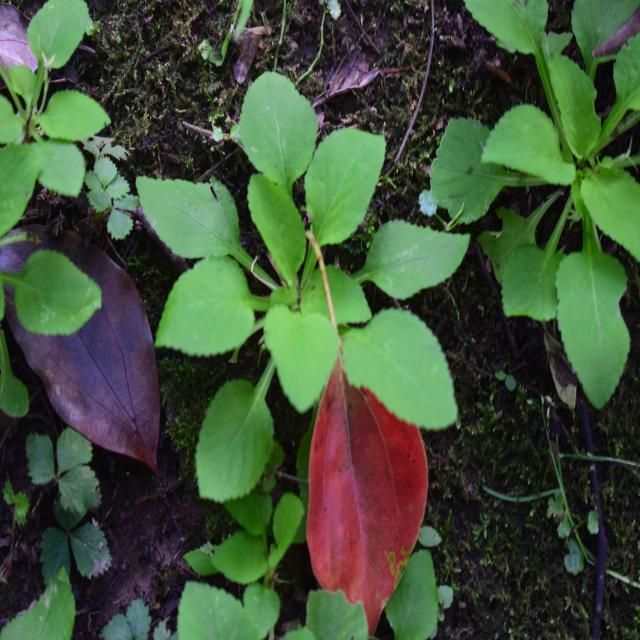Viola: (147, 49, 485, 459)
